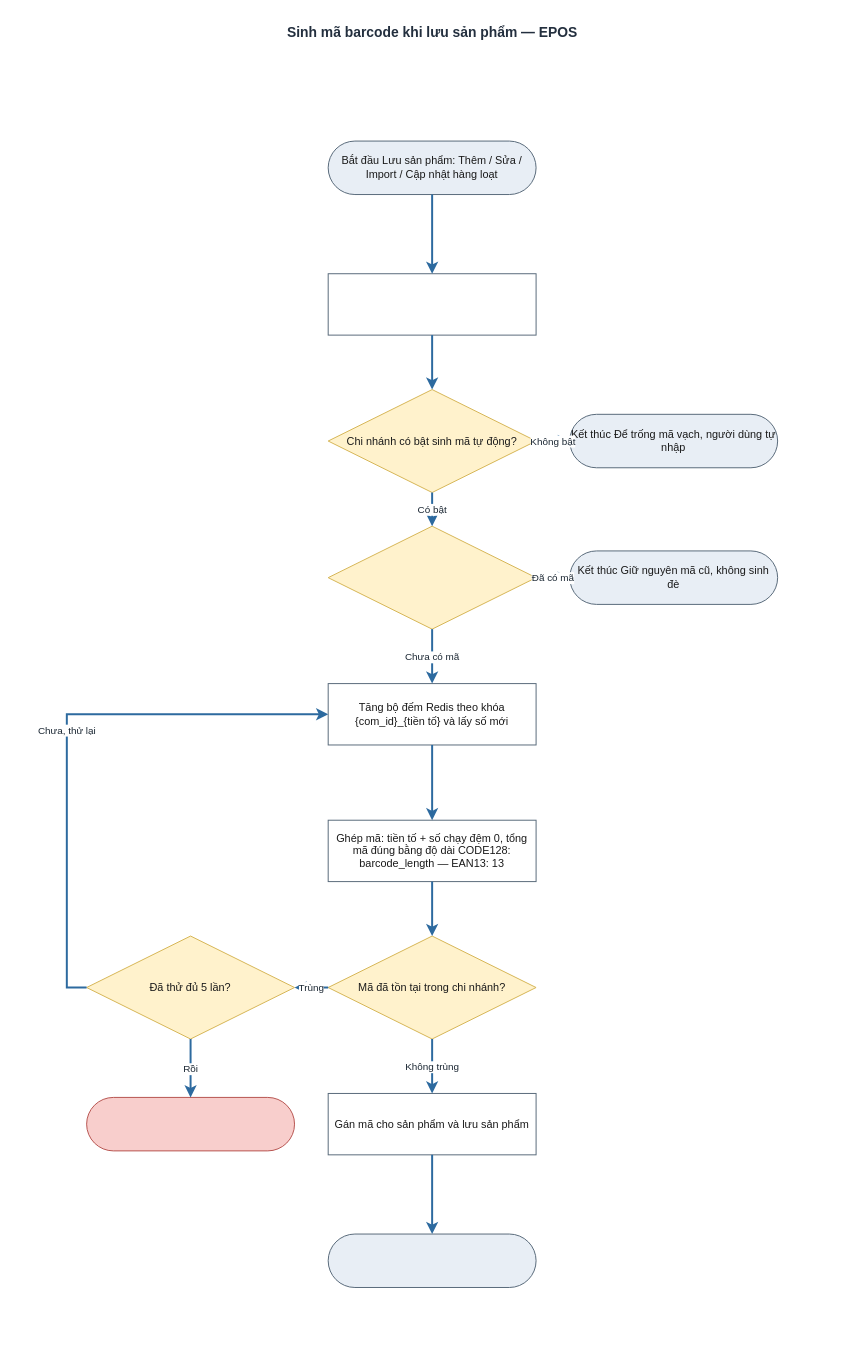
Image size: 863x1358. Some labels were removed from this diagram. The centre of each missing label's shape, as x and y in pixels:
Kết thúc Không sinh được mã vạch, người dùng nhập thủ công: the point at 190,1123
Kết thúc Sản phẩm được lưu kèm mã vạch: the point at 431,1260
Sản phẩm đã có mã vạch chưa?: the point at 431,577
Đọc cấu hình sinh mã của chi nhánh: the point at 431,304
